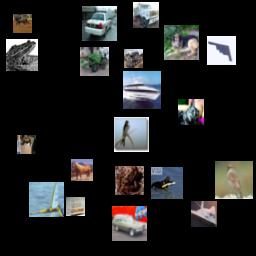airplane: (207, 36, 236, 65), (191, 201, 217, 227)
automobile: (112, 206, 147, 241), (82, 6, 117, 41)
bird: (215, 161, 253, 199), (114, 117, 149, 152)
cat: (178, 99, 204, 125)
dog: (164, 25, 199, 60), (151, 167, 183, 199), (17, 135, 36, 154)
frog: (6, 39, 38, 71), (115, 166, 144, 195)
ship: (123, 71, 161, 109), (29, 182, 64, 217), (66, 197, 85, 216)
truck: (80, 47, 109, 76), (133, 2, 159, 28), (124, 49, 143, 68)
